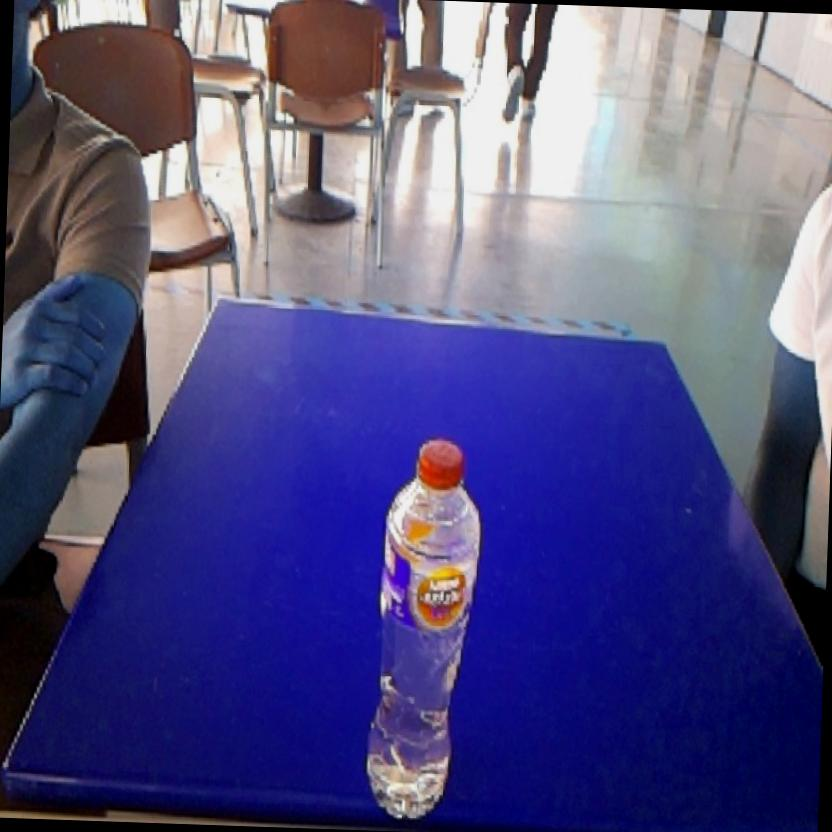good: (353, 425, 490, 832)
